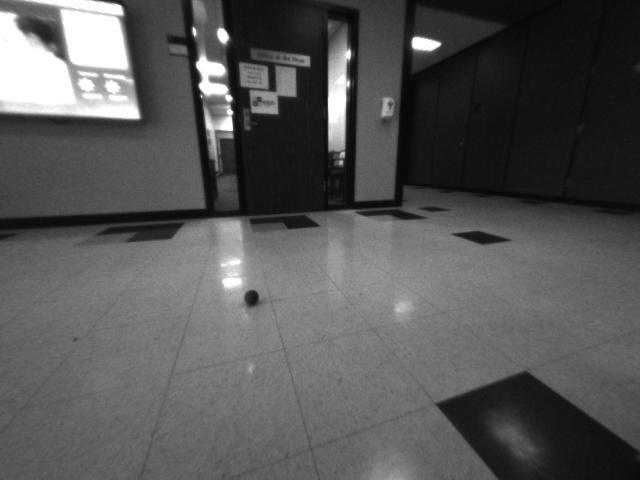dogtoy: (238, 282, 269, 312)
